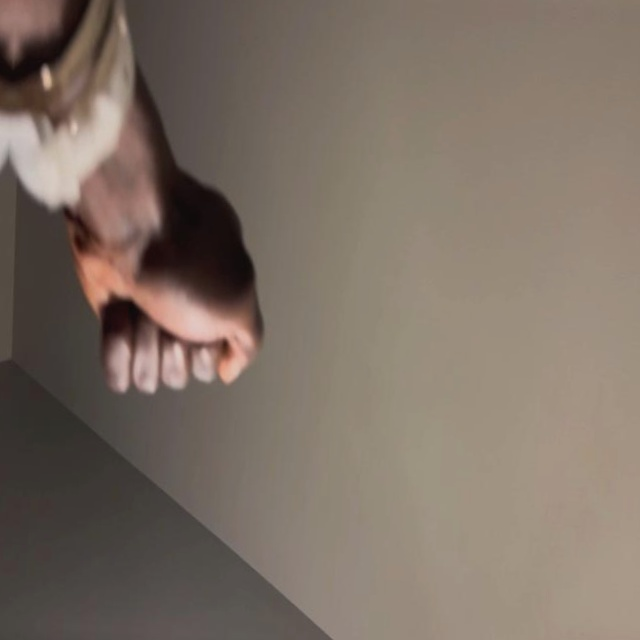Rock: (61, 163, 274, 405)
